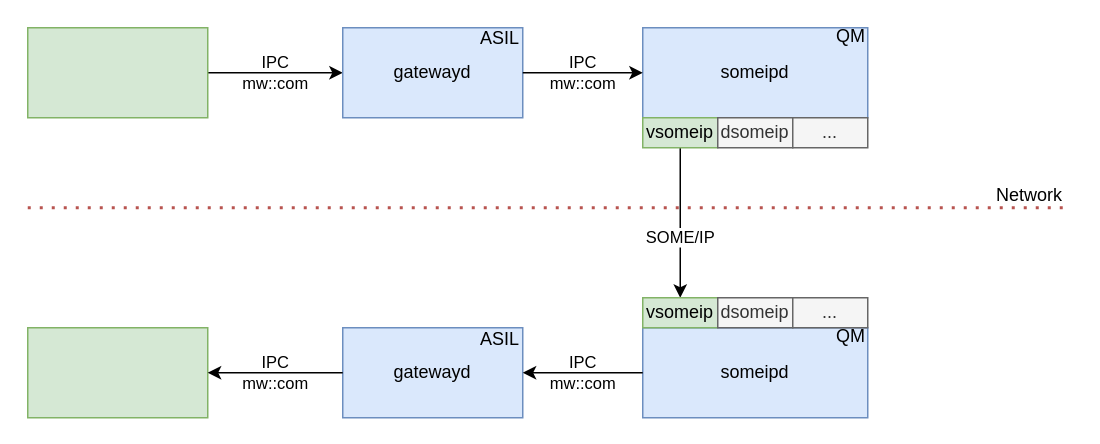
The diagram is 1100 pixels wide and 444 high, and some of its shapes have lost their labels. Each missing label, with the centre of its shape:
"App car-window" goes at (x=117, y=372).
"App car-window controller" goes at (x=117, y=72).
